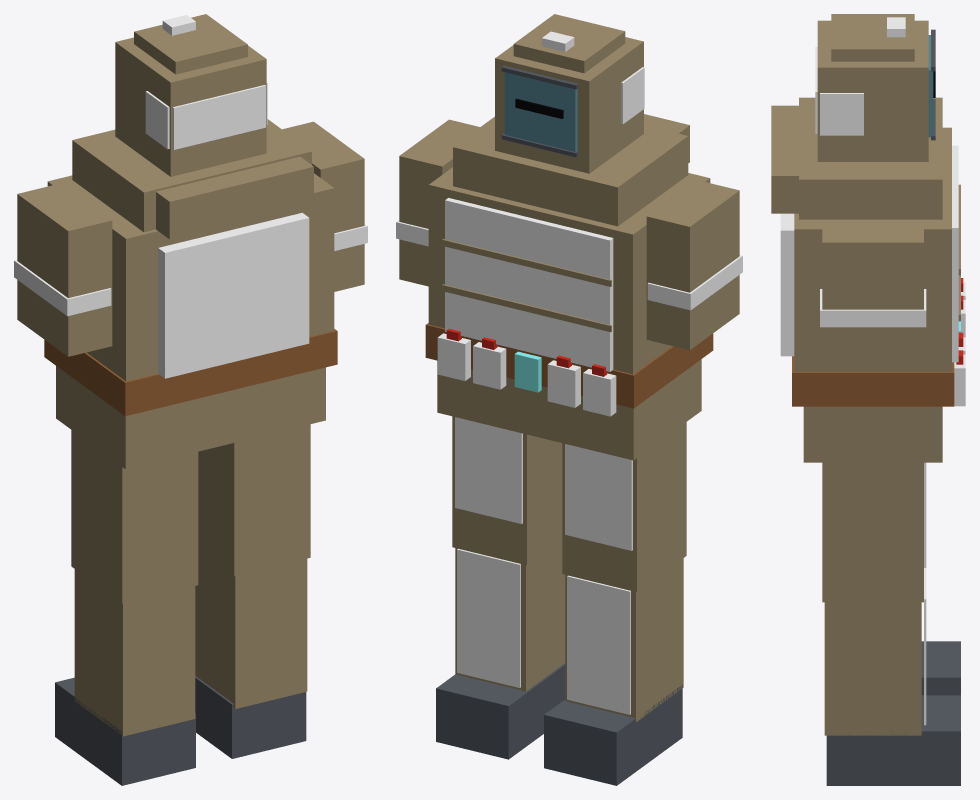
The model's file is DEMOLITION.gltf.
The picture shows the model from 3 angles, left to right: view 1: azimuth 30°, elevation 25°; view 2: azimuth 150°, elevation 25°; view 3: azimuth 270°, elevation 25°; orthographic projection. The views are drawn at different scales.
Parts seen in each view (by area): view 1: DEMOLITION; view 2: DEMOLITION; view 3: DEMOLITION.
Boxes of the visible parts, bbox=[...] form: DEMOLITION: bbox=[14, 14, 367, 785]; DEMOLITION: bbox=[396, 14, 742, 785]; DEMOLITION: bbox=[771, 14, 965, 785].
Bounding box in the file's own units: 0.75 × 1.71 × 0.42.
